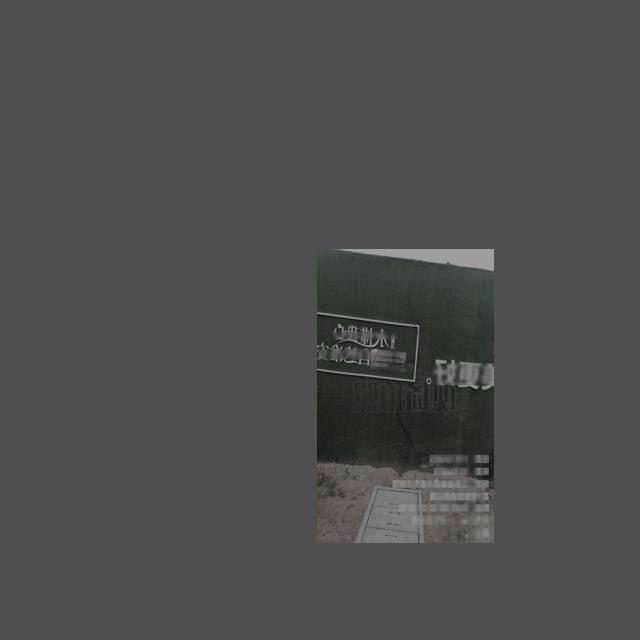good: (355, 484, 426, 543)
